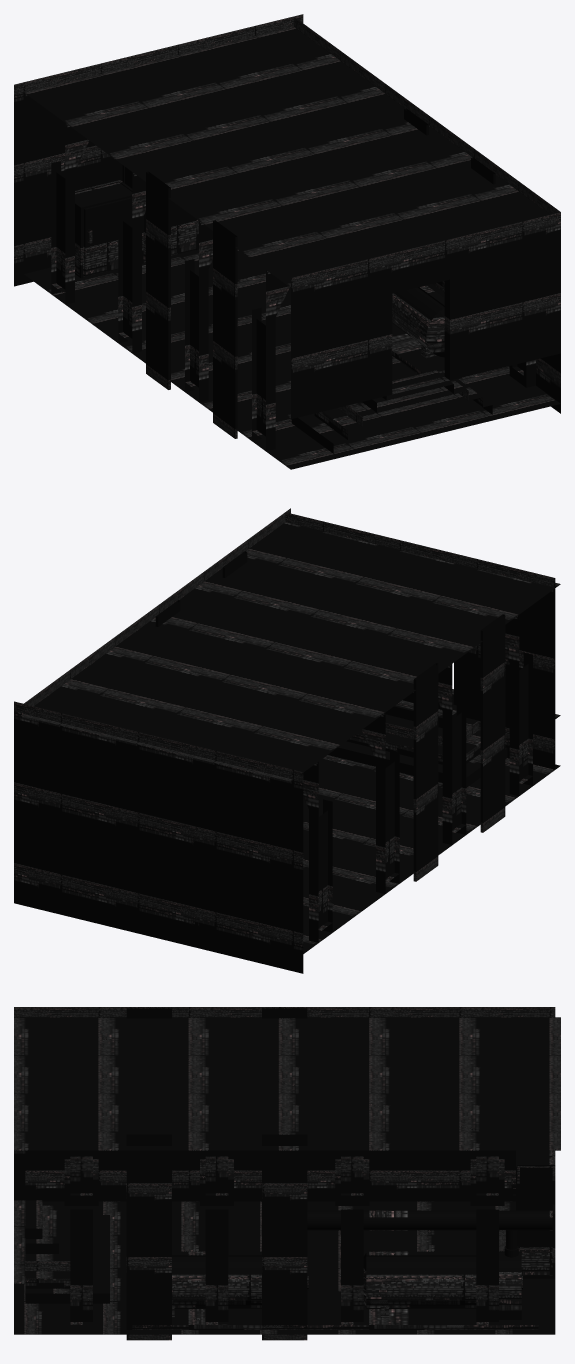
Rendered from mt_generator.obj.
The picture shows the model from 3 angles, top to bottom: view 1: azimuth 30°, elevation 25°; view 2: azimuth 150°, elevation 25°; view 3: azimuth 270°, elevation 25°; orthographic projection.
Size of the model in its own units: 960 by 640 by 1552.
